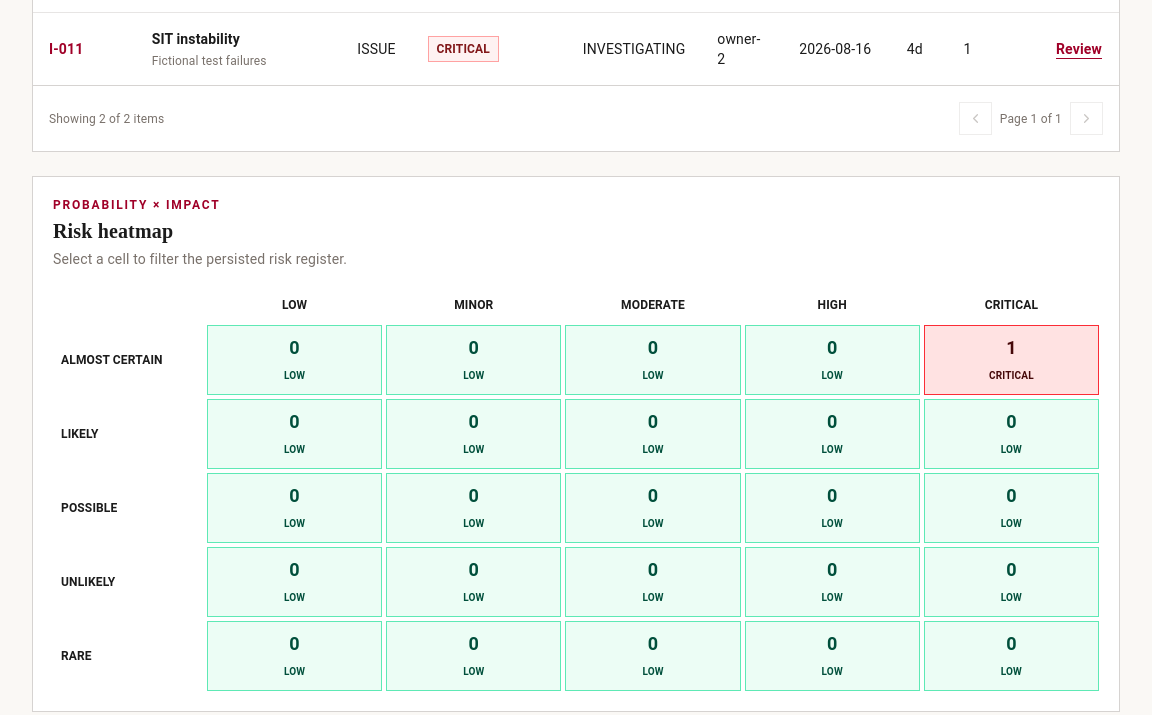
Test: RAID intelligence › filters the register from an accessible heatmap cell
The image size is (1152, 715).
(page scrolled)
Click the cell named "ALMOST CERTAIN probability, CRITICAL impact". click: [1011, 360]
box: [924, 325, 1099, 395]
(page scrolled)
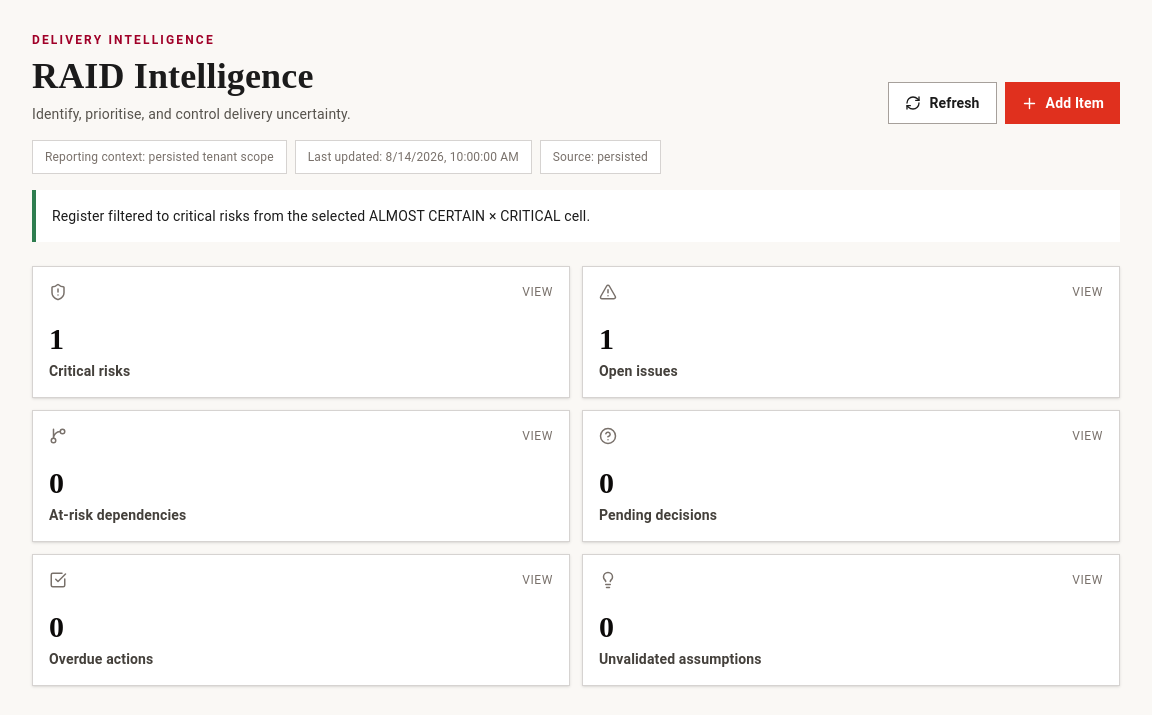
Result: the message shows "Register filtered to critical risks" at [52, 208, 590, 224]
